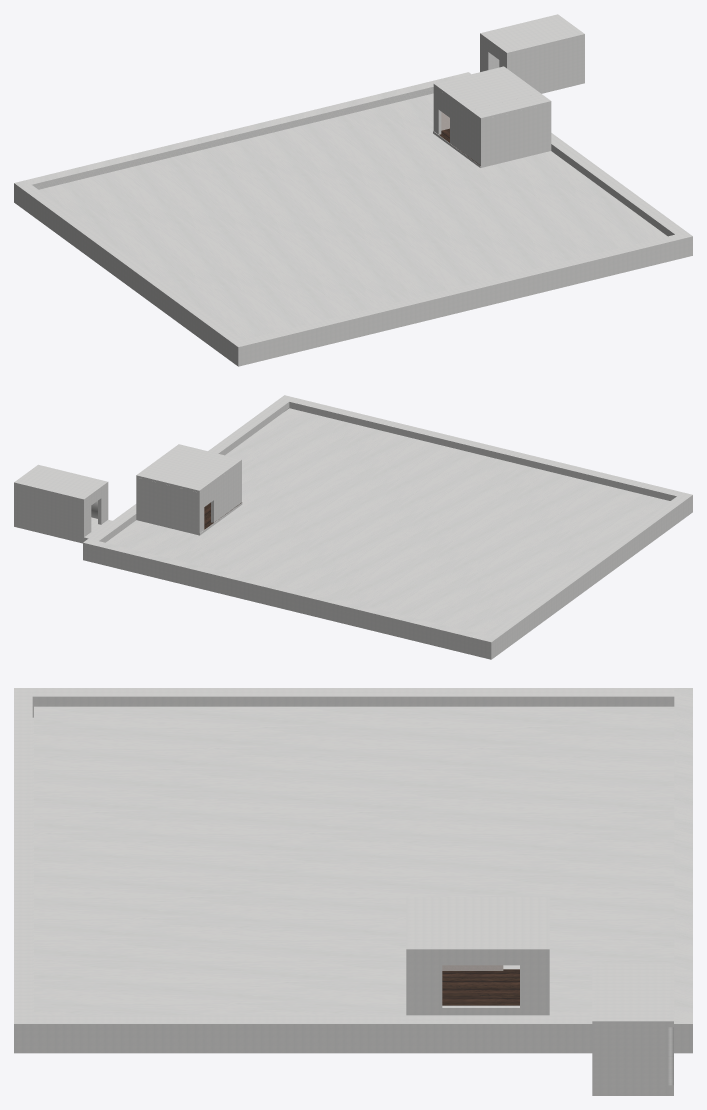
The model's file is stage2_0429.fbx.
The picture shows the model from 3 angles, top to bottom: view 1: azimuth 30°, elevation 25°; view 2: azimuth 150°, elevation 25°; view 3: azimuth 270°, elevation 25°; orthographic projection. The views are drawn at different scales.
Visible parts, largest first — view 1: wall; view 2: wall; view 3: wall.
Part boxes in pixels (x1=…): wall: x1=14, y1=14, x2=692, y2=366; wall: x1=14, y1=395, x2=692, y2=659; wall: x1=14, y1=688, x2=692, y2=1095.
Bounding box in the file's own units: 4492 × 501 × 3246.
